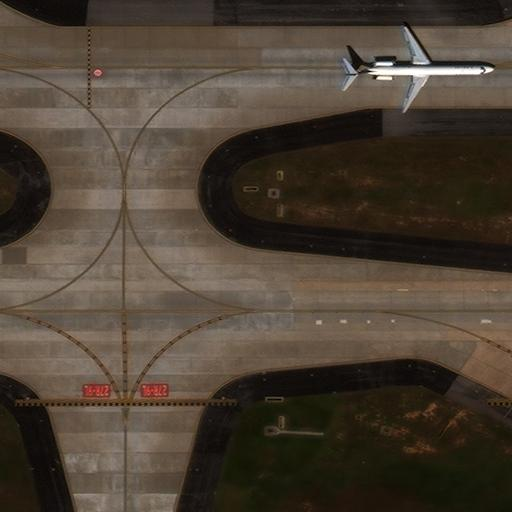Medium Civil Transport: (340, 25, 498, 111)
